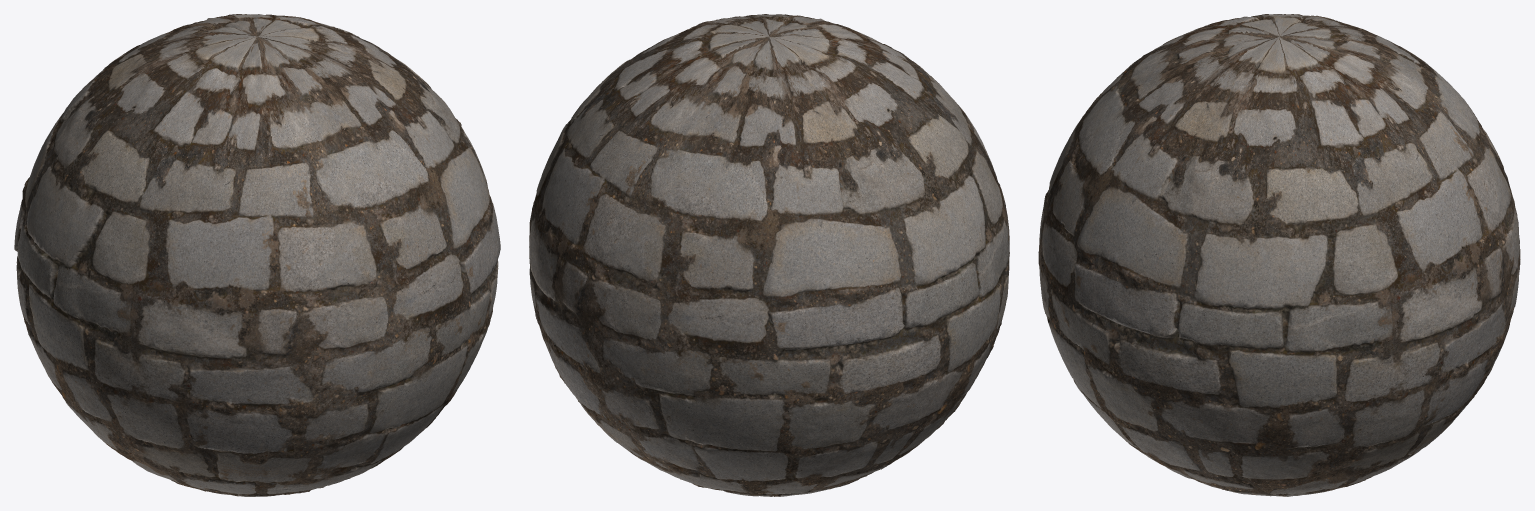
File: stone_wall_04_4k.gltf
3 renders of one model, left to right at view 1: azimuth 30°, elevation 25°; view 2: azimuth 150°, elevation 25°; view 3: azimuth 270°, elevation 25°, orthographic.
Parts seen in each view (by area): view 1: sphere_gltf; view 2: sphere_gltf; view 3: sphere_gltf.
Part boxes in pixels (box(x1,y1,x2,y2)): sphere_gltf: box(14, 14, 500, 496); sphere_gltf: box(529, 14, 1009, 496); sphere_gltf: box(1038, 14, 1520, 496).
Bounding box in the file's own units: 1.72 × 1.72 × 1.72.
Materials: 1 (1 with a texture image).
